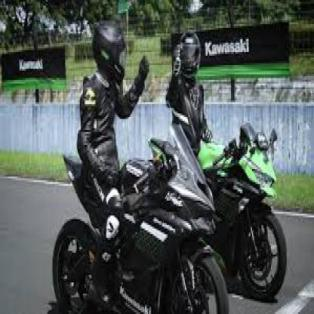Motocicleta: (51, 145, 231, 312), (203, 124, 291, 304)
